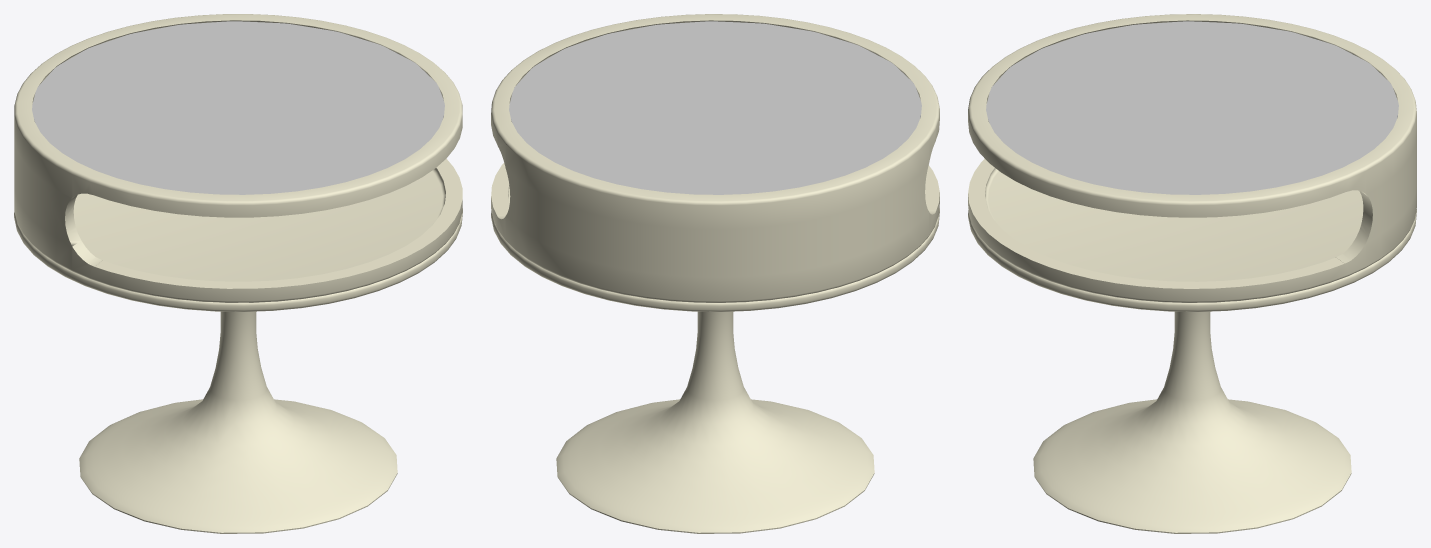
File: SideTable.fbx
3 views of the same model, side by side, from view 1: azimuth 30°, elevation 25°; view 2: azimuth 150°, elevation 25°; view 3: azimuth 270°, elevation 25° (orthographic).
Parts seen in each view (by area): view 1: GlassTop, BodyTop, BodyBottom; view 2: GlassTop, BodyTop, BodyBottom; view 3: GlassTop, BodyTop, BodyBottom.
Boxes of the visible parts, box(x1,y1,x2,y2) form: GlassTop: box(32, 21, 444, 194); BodyTop: box(14, 14, 462, 302); BodyBottom: box(14, 208, 462, 533); GlassTop: box(509, 21, 921, 194); BodyTop: box(491, 14, 939, 302); BodyBottom: box(491, 209, 939, 533); GlassTop: box(986, 21, 1398, 194); BodyTop: box(968, 14, 1416, 302); BodyBottom: box(968, 209, 1416, 533).
Size of the model in its own units: 4.9 by 4.34 by 4.9.
